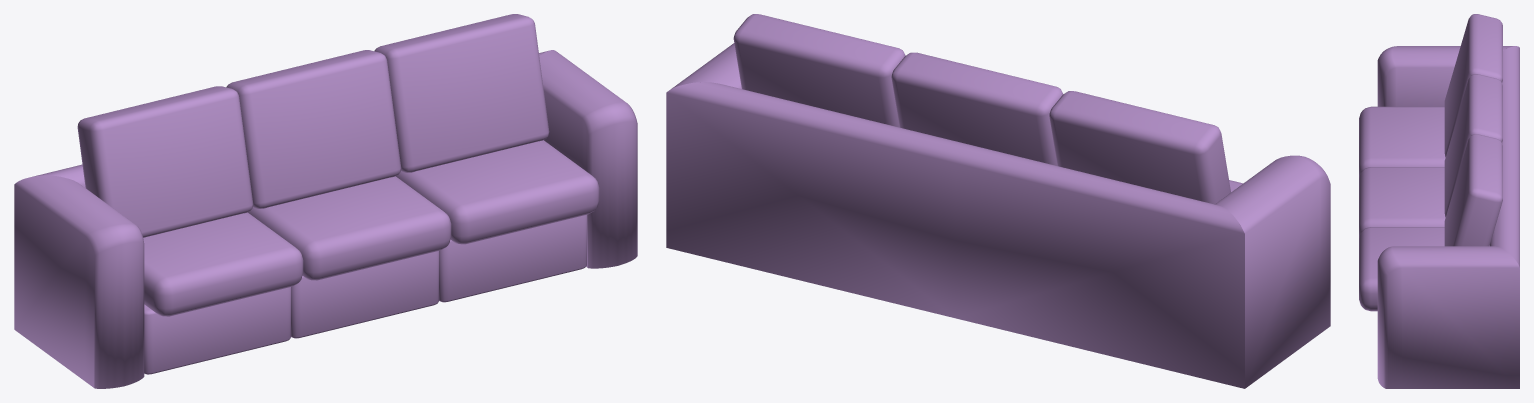
Rendered from sofa2ungu.glb.
The picture shows the model from 3 angles, left to right: view 1: azimuth 30°, elevation 25°; view 2: azimuth 150°, elevation 25°; view 3: azimuth 270°, elevation 25°; orthographic projection. The views are drawn at different scales.
Visible parts, largest first — view 1: node_id32, node_id8, node_id14, node_id17, node_id11, node_id20, node_id5, node_id23, node_id26, node_id29; view 2: node_id32, node_id17, node_id8, node_id14; view 3: node_id32, node_id5, node_id20, node_id14, node_id8, node_id17, node_id11.
Part boxes in pixels (<box>): node_id32: <box>14,50,637,388</box>; node_id8: <box>226,50,401,208</box>; node_id14: <box>374,14,549,172</box>; node_id17: <box>77,86,253,237</box>; node_id11: <box>396,140,599,244</box>; node_id20: <box>248,176,451,280</box>; node_id5: <box>143,212,303,316</box>; node_id23: <box>144,287,290,374</box>; node_id26: <box>439,215,586,302</box>; node_id29: <box>291,251,438,338</box>; node_id32: <box>666,43,1330,388</box>; node_id17: <box>1049,91,1230,204</box>; node_id8: <box>891,52,1063,165</box>; node_id14: <box>733,14,905,127</box>; node_id32: <box>1377,46,1519,388</box>; node_id5: <box>1359,106,1445,177</box>; node_id20: <box>1359,167,1445,237</box>; node_id14: <box>1444,134,1502,246</box>; node_id8: <box>1444,74,1502,217</box>; node_id17: <box>1444,14,1502,157</box>; node_id11: <box>1359,227,1444,311</box>.
Bounding box in the file's own units: 0.512 × 0.1922 × 0.1581.
10 materials, 10 textured.
